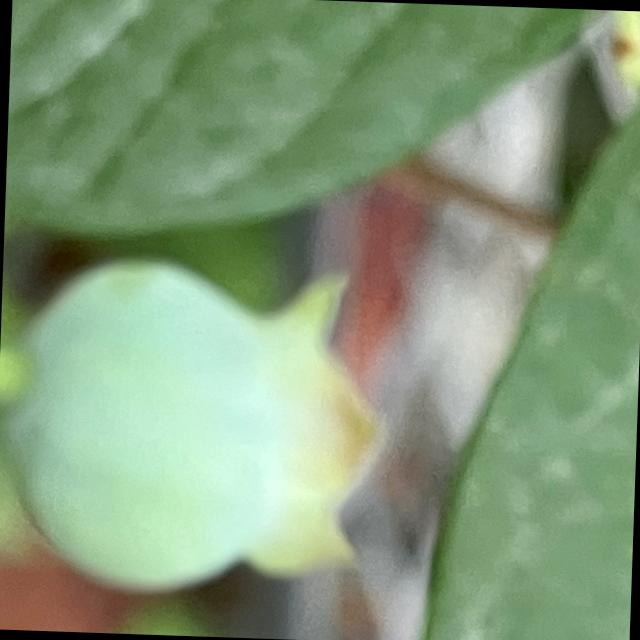Blueberries: (0, 216, 425, 611)
